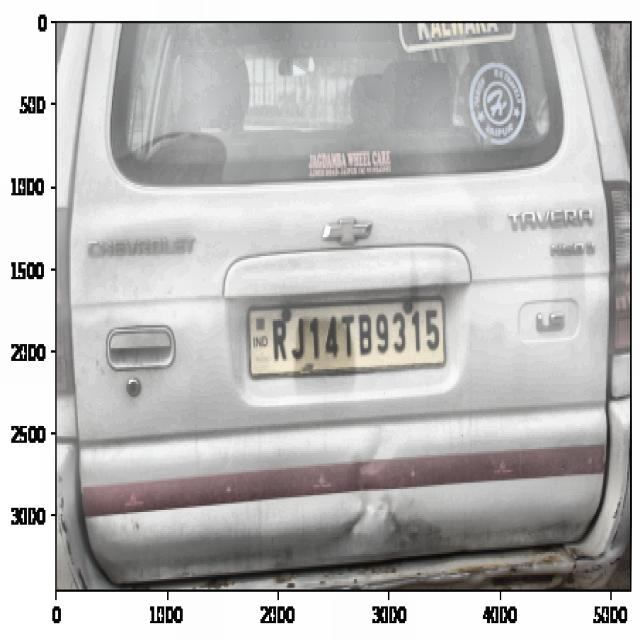license_plate: (265, 304, 445, 371)
